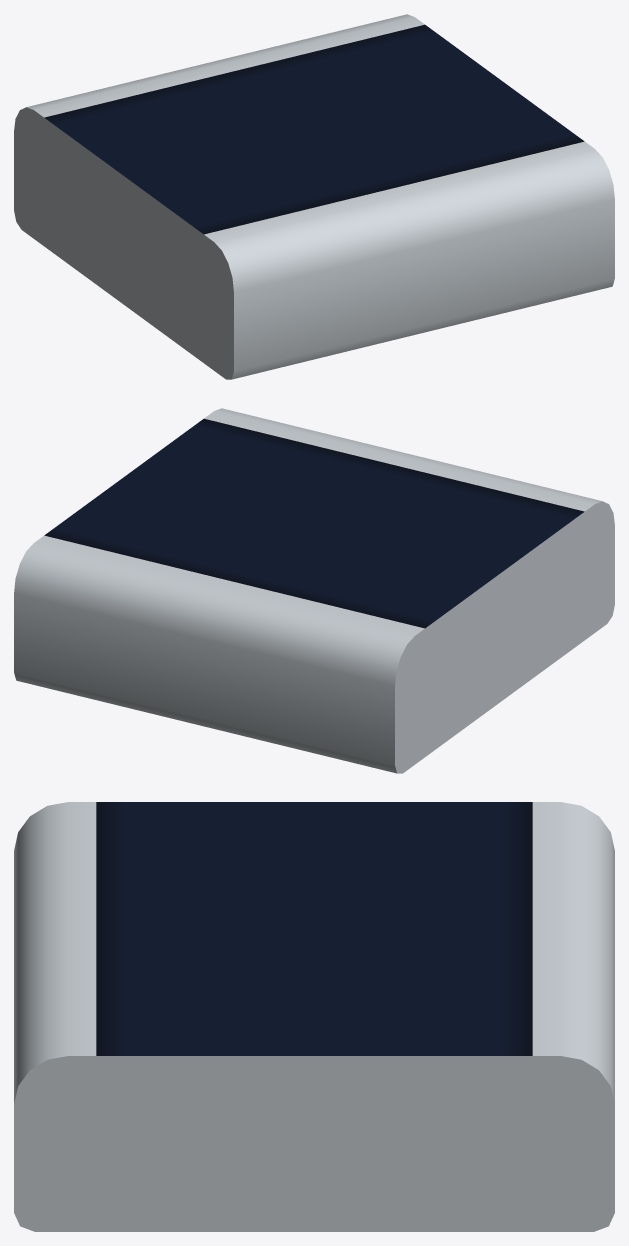
Rendered from Track_Straight.fbx.
3 renders of one model, top to bottom at view 1: azimuth 30°, elevation 25°; view 2: azimuth 150°, elevation 25°; view 3: azimuth 270°, elevation 25°, orthographic. The views are drawn at different scales.
Parts seen in each view (by area): view 1: Track_Straight; view 2: Track_Straight; view 3: Track_Straight.
Part boxes in pixels (x1=…): Track_Straight: x1=14, y1=14, x2=614, y2=379; Track_Straight: x1=14, y1=408, x2=614, y2=773; Track_Straight: x1=14, y1=802, x2=614, y2=1231.
Bounding box in the file's own units: 1 × 0.323 × 1.
